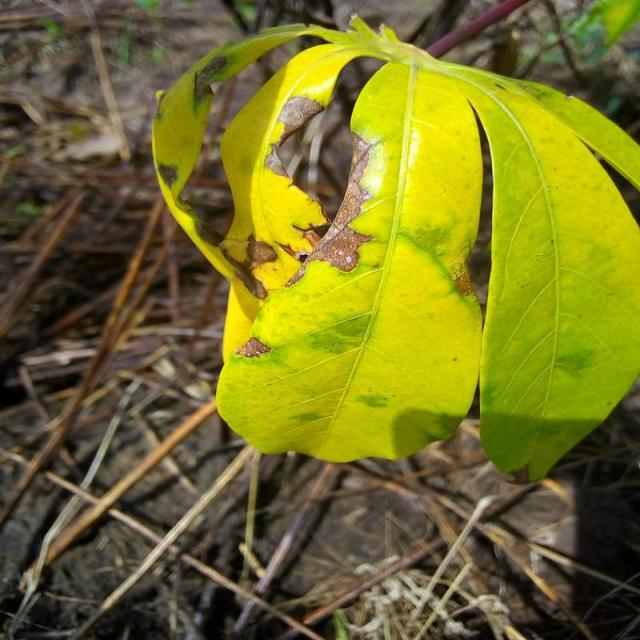cassava leaf: (152, 17, 638, 483)
